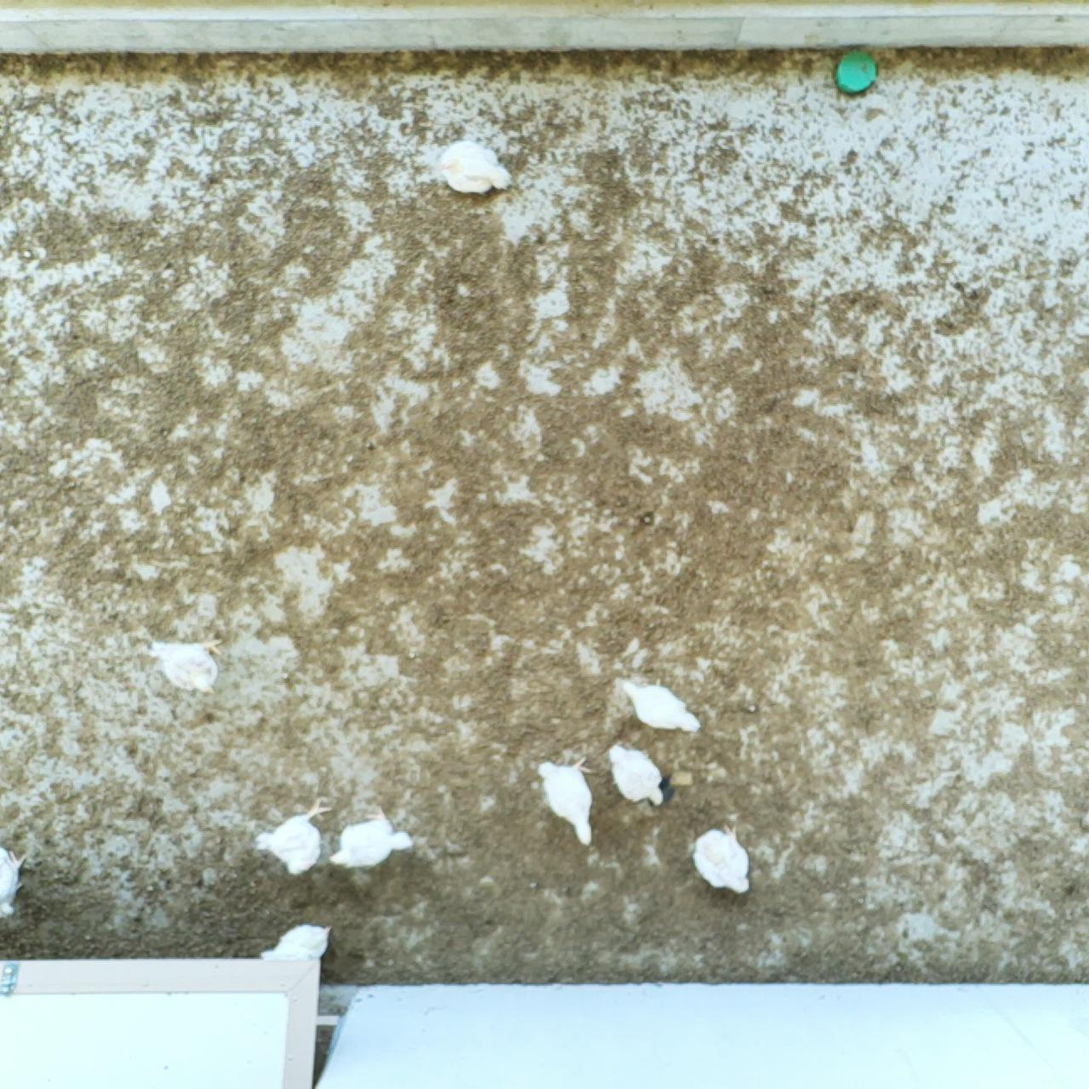chicken: (252, 796, 335, 881), (535, 753, 605, 852), (329, 804, 415, 871), (144, 632, 232, 697), (620, 674, 707, 738), (433, 137, 516, 199), (688, 817, 751, 898), (601, 737, 668, 809), (257, 915, 337, 972), (0, 841, 29, 921)
